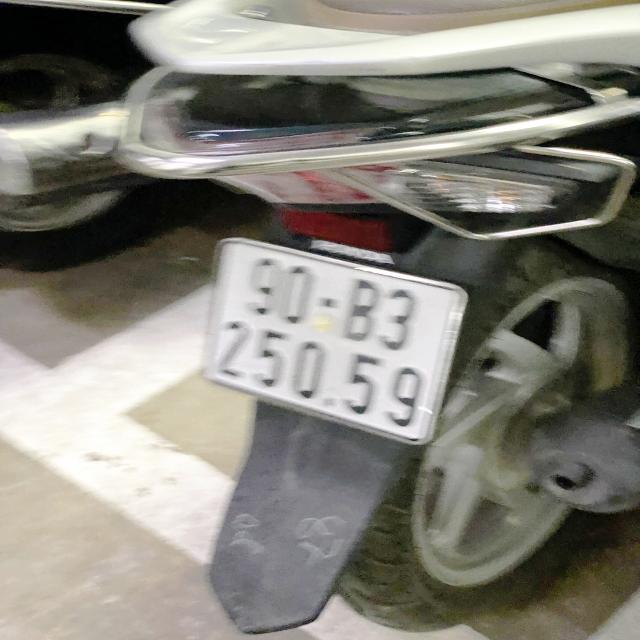license_plate: (182, 223, 489, 460)
